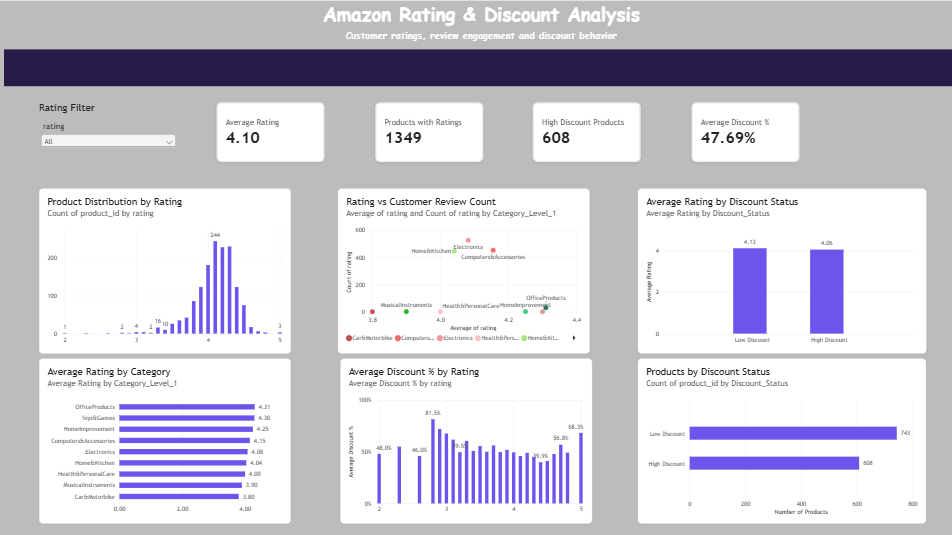

The page's visual inventory and layout, read from the dashboard file:
{"tool":"powerbi","page":{"name":"03_Rating & Discount Analysis","canvas":[1920,1080],"ordinal":2},"visuals":[{"type":"shape","title":"Amazon Rating & Discount Analysis","box":[10.4,0,1909.6,170],"z":0},{"type":"slicer","title":"Rating Filter","fields":{"Values":["Amazon_Raw.rating"]},"box":[80,201.7,278.1,129],"z":1000},{"type":"cardVisual","fields":{"Data":["Amazon_Raw.Average Rating"]},"box":[434.8,202.6,216,120],"z":2000},{"type":"cardVisual","fields":{"Data":["Amazon_Raw.Products with Ratings"]},"box":[751.3,202.6,216,120],"z":3000},{"type":"cardVisual","fields":{"Data":["Amazon_Raw.High Discount Products"]},"box":[1067.8,202.6,216,120],"z":4000},{"type":"cardVisual","fields":{"Data":["Amazon_Raw.Average Discount %"]},"box":[1384.3,202.6,216,120],"z":5000},{"type":"clusteredColumnChart","title":"Product Distribution by Rating","fields":{"Category":["Amazon_Raw.rating"],"Y":["CountNonNull(Amazon_Raw.product_id)"]},"box":[80,375.7,504.3,330.4],"z":6000},{"type":"scatterChart","title":"Rating vs Customer Review Count","fields":{"Series":["Amazon_Raw.Category_Level_1"],"X":["Amazon_Raw.rating"],"Y":["CountNonNull(Amazon_Raw.rating)"]},"box":[678.4,375.7,504,330],"z":7000},{"type":"clusteredColumnChart","title":"Average Rating by Discount Status","fields":{"Category":["Amazon_Raw.Discount_Status"],"Y":["Amazon_Raw.Average Rating"]},"box":[1276.5,375.7,577.4,330.4],"z":8000},{"type":"clusteredBarChart","title":"Average Rating by Category","fields":{"Category":["Amazon_Raw.Category_Level_1"],"Y":["Amazon_Raw.Average Rating"]},"box":[80,716,504,330],"z":9000},{"type":"clusteredColumnChart","title":"Average Discount % by Rating","fields":{"Category":["Amazon_Raw.rating"],"Y":["Amazon_Raw.Average Discount %"]},"box":[682,716,504,330],"z":10000},{"type":"clusteredBarChart","title":"Products by Discount Status","fields":{"Category":["Amazon_Raw.Discount_Status"],"Y":["Count(Amazon_Raw.product_id)"]},"box":[1277,716,577,330],"z":11000}]}

Visuals, with their boxes in screenshot pixels (x1, y1, x2, y2), scaled from the page's 1920x1080 canvas onto the 952x535 screenshot:
"Amazon Rating & Discount Analysis" shape: 5/0/951/84
"Rating Filter" slicer: 40/100/178/164
cardVisual - Amazon_Raw.Average Rating: 216/100/323/160
cardVisual - Amazon_Raw.Products with Ratings: 373/100/480/160
cardVisual - Amazon_Raw.High Discount Products: 529/100/637/160
cardVisual - Amazon_Raw.Average Discount %: 686/100/793/160
"Product Distribution by Rating" clusteredColumnChart: 40/186/290/350
"Rating vs Customer Review Count" scatterChart: 336/186/586/350
"Average Rating by Discount Status" clusteredColumnChart: 633/186/919/350
"Average Rating by Category" clusteredBarChart: 40/355/290/518
"Average Discount % by Rating" clusteredColumnChart: 338/355/588/518
"Products by Discount Status" clusteredBarChart: 633/355/919/518
